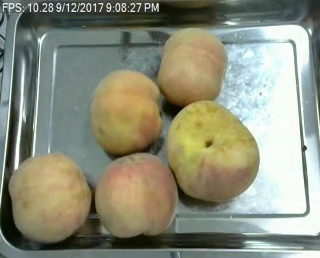Peach: (165, 98, 259, 203), (8, 152, 91, 243), (96, 153, 178, 237), (89, 69, 164, 156), (158, 26, 227, 106)
